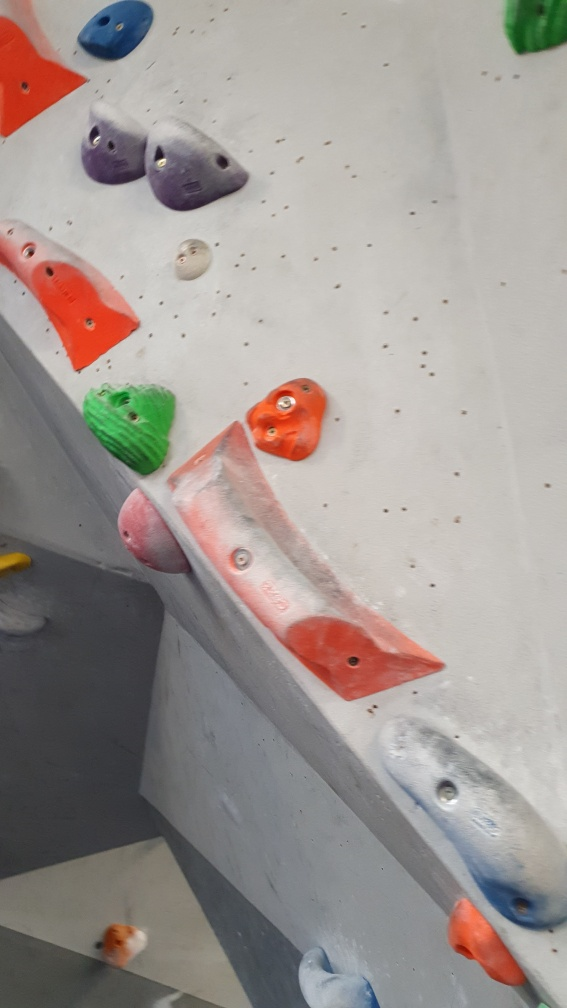Crimp: (74, 1, 153, 68)
Jug: (142, 115, 252, 215), (81, 378, 183, 477), (75, 101, 149, 184), (298, 946, 377, 1008)
Pinch: (169, 417, 444, 709), (380, 709, 567, 927), (1, 219, 146, 369), (1, 1, 88, 143)
Sloper: (117, 486, 192, 580)
